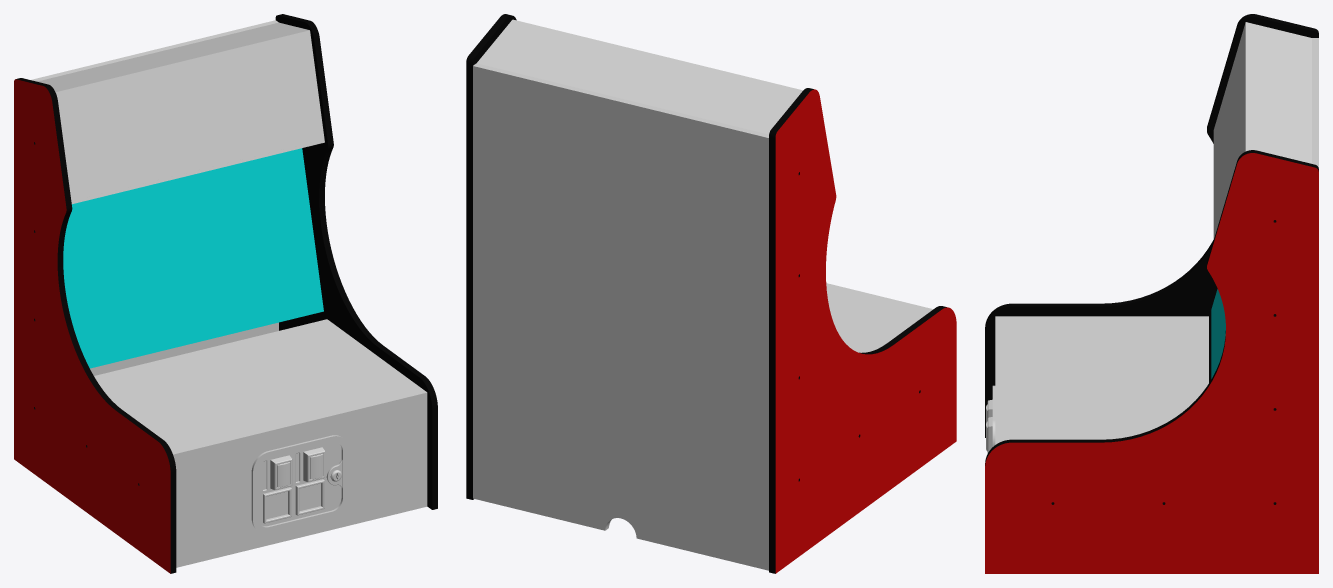
File: Arcade_Cabinet.fbx
3 renders of one model, left to right at view 1: azimuth 30°, elevation 25°; view 2: azimuth 150°, elevation 25°; view 3: azimuth 270°, elevation 25°, orthographic. The views are drawn at different scales.
Parts seen in each view (by area): view 1: OfficeDisplay_geo, sidePanel_Left, front_logo_panel, playableSurface, polySurface2, sidePanel_Right, Coin_Return_Panel, top_panel, Backdoor, speaker_panel; view 2: Backdoor, sidePanel_Left, top_panel, playableSurface, sidePanel_Right; view 3: sidePanel_Right, playableSurface, top_panel, sidePanel_Left, front_logo_panel, OfficeDisplay_geo, Backdoor.
Part boxes in pixels (x1,y1,x2,y2): OfficeDisplay_geo: (63, 148, 323, 368); sidePanel_Left: (14, 78, 176, 573); front_logo_panel: (57, 33, 324, 200); playableSurface: (94, 319, 427, 459); polySurface2: (174, 398, 427, 567); sidePanel_Right: (275, 14, 437, 509); Coin_Return_Panel: (251, 435, 348, 533); top_panel: (37, 22, 310, 94); Backdoor: (31, 20, 278, 375); speaker_panel: (71, 139, 324, 204); Backdoor: (473, 63, 768, 570); sidePanel_Left: (769, 88, 956, 573); top_panel: (477, 19, 802, 134); playableSurface: (826, 283, 933, 352); sidePanel_Right: (466, 14, 516, 499); sidePanel_Right: (985, 150, 1318, 573); playableSurface: (995, 316, 1208, 444); top_panel: (1244, 22, 1311, 163); sidePanel_Left: (985, 14, 1318, 437); front_logo_panel: (1214, 26, 1244, 236); OfficeDisplay_geo: (1211, 289, 1225, 378); Backdoor: (1312, 38, 1318, 168).
Bounding box in the file's own units: 60 × 84.75 × 60.89.
